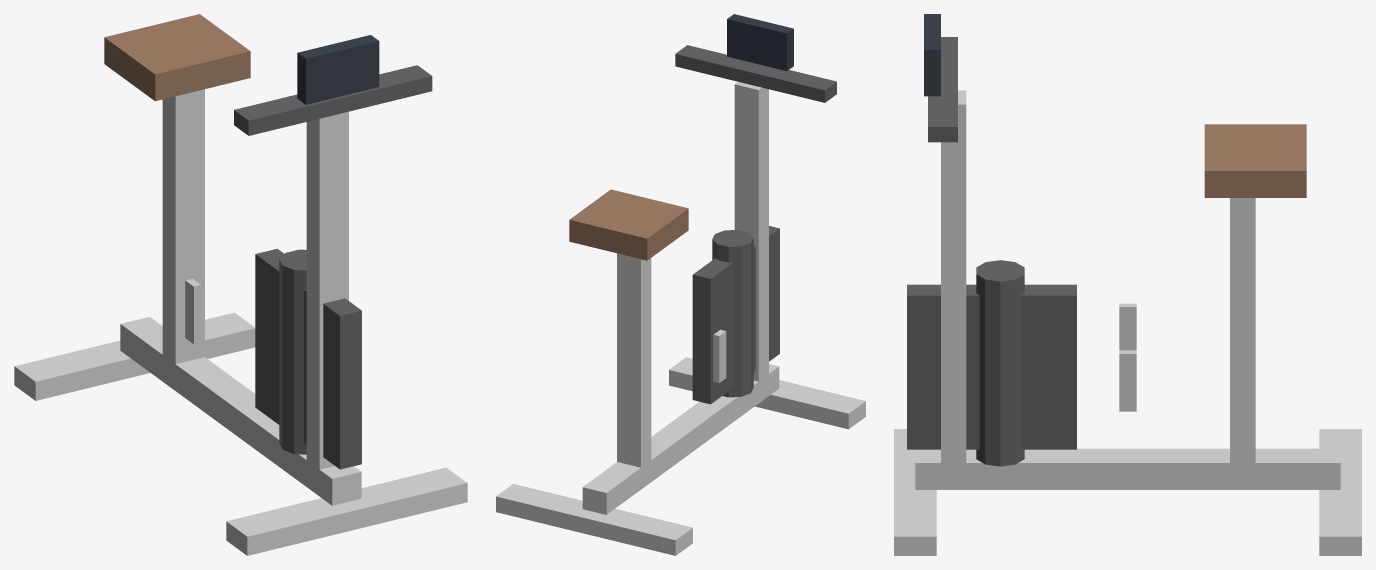
File: Exercise_Bike.fbx
3 renders of one model, left to right at view 1: azimuth 30°, elevation 25°; view 2: azimuth 150°, elevation 25°; view 3: azimuth 270°, elevation 25°, orthographic. The views are drawn at different scales.
Visible parts, largest first — view 1: Exercise_Bike; view 2: Exercise_Bike; view 3: Exercise_Bike.
Boxes of the visible parts, left/top/right/bottom form: Exercise_Bike: left=14, top=14, right=467, bottom=555; Exercise_Bike: left=496, top=14, right=865, bottom=555; Exercise_Bike: left=894, top=14, right=1361, bottom=555.
Size of the model in its own units: 0.6 by 1.22 by 1.1.
